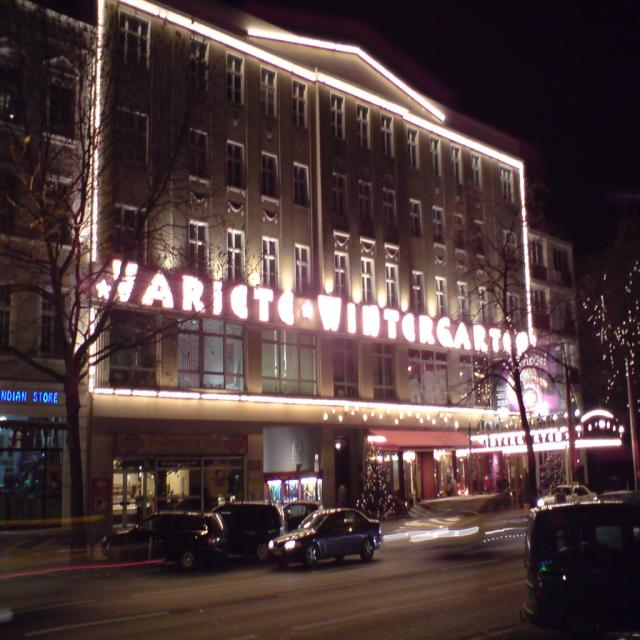car: (275, 510, 386, 571), (105, 510, 225, 566)
